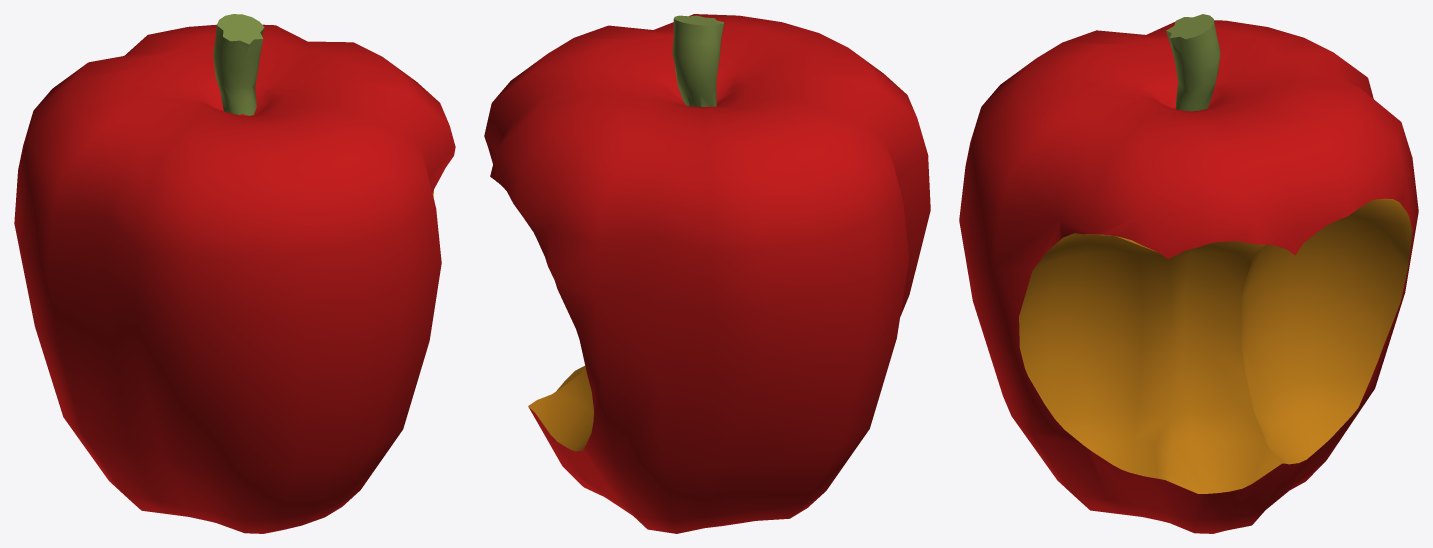
The model's file is Manzana_01.fbx.
3 renders of one model, left to right at view 1: azimuth 30°, elevation 25°; view 2: azimuth 150°, elevation 25°; view 3: azimuth 270°, elevation 25°, orthographic. The views are drawn at different scales.
Visible parts, largest first — view 1: Manzana_01; view 2: Manzana_01; view 3: Manzana_01.
Boxes of the visible parts, x1,y1,x2,y2 form: Manzana_01: [14, 14, 455, 533]; Manzana_01: [484, 14, 930, 533]; Manzana_01: [959, 14, 1418, 533].
Bounding box in the file's own units: 16.69 × 19.68 × 17.02.
